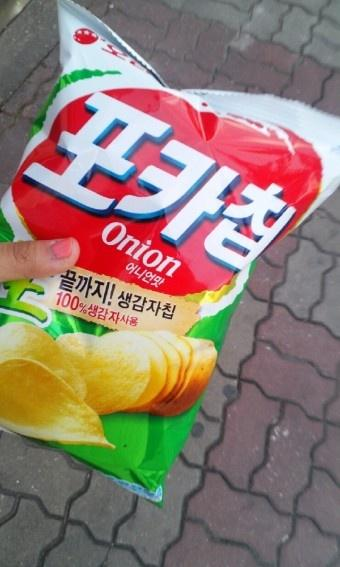snack: (0, 0, 340, 512)
